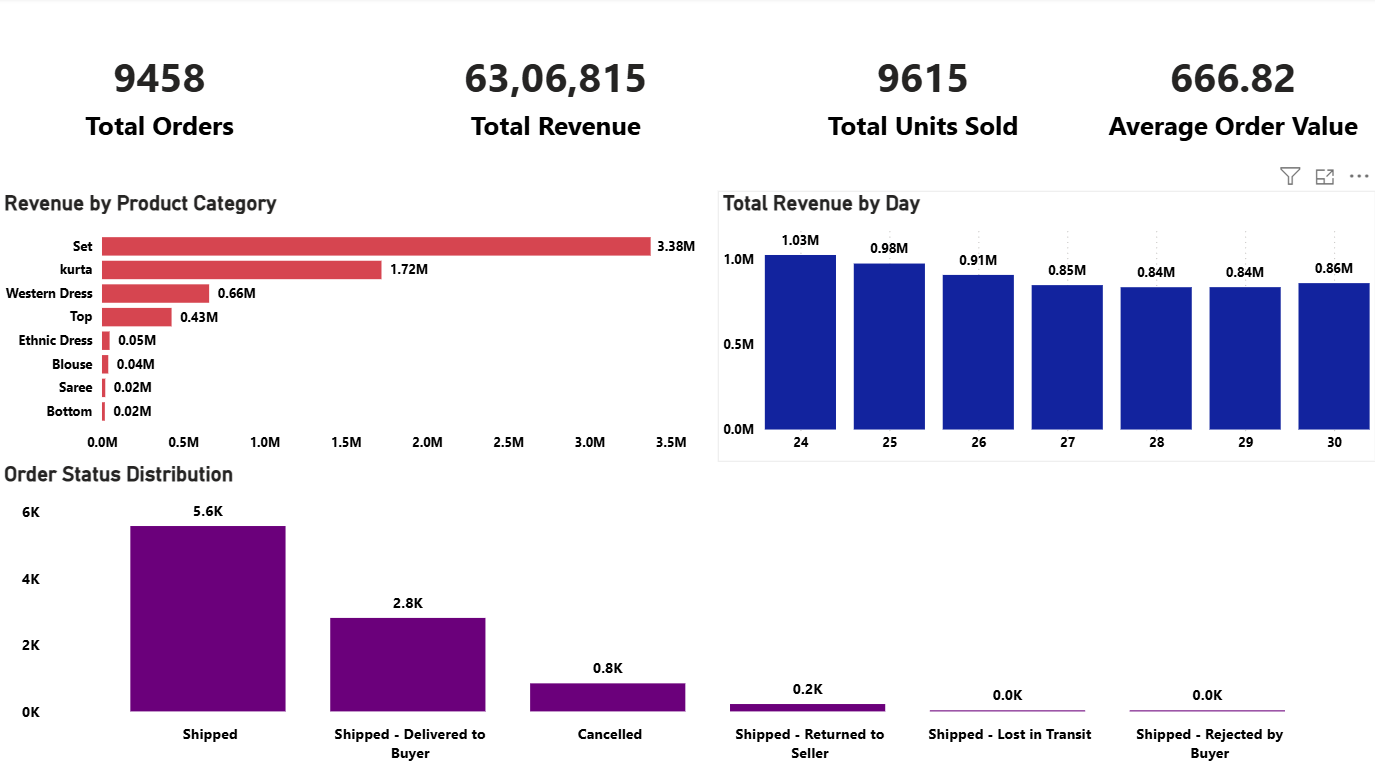

The dashboard page shown, as its layout file describes it:
{"tool":"powerbi","page":{"name":"Page 1","canvas":[1280,720],"ordinal":0},"visuals":[{"type":"card","fields":{"Values":["Amazon_Sales_Cleaned.Total Orders"]},"box":[0,0,299,179.9],"z":0},{"type":"card","fields":{"Values":["Amazon_Sales_Cleaned.Total Revenue"]},"box":[369.1,0,299,179.9],"z":1000},{"type":"card","fields":{"Values":["Amazon_Sales_Cleaned.Total Units Sold"]},"box":[747.4,0,224.2,179.9],"z":2000},{"type":"card","fields":{"Values":["Amazon_Sales_Cleaned.Average Order Value"]},"box":[1016.3,0,264,180.2],"z":3000},{"type":"clusteredBarChart","title":"Revenue by Product Category","fields":{"Category":["Amazon_Sales_Cleaned.Category"],"Y":["Amazon_Sales_Cleaned.Total Revenue"]},"box":[0,179.9,668,252.3],"z":4000},{"type":"clusteredColumnChart","fields":{"Category":["Amazon_Sales_Cleaned.Date.Variation.Date Hierarchy.Day"],"Y":["Amazon_Sales_Cleaned.Total Revenue"]},"box":[668.6,180.2,611.6,252.3],"z":5000},{"type":"clusteredColumnChart","title":"Order Status Distribution","fields":{"Category":["Amazon_Sales_Cleaned.Status"],"Y":["Amazon_Sales_Cleaned.Total Orders"]},"box":[0,432.6,1280.2,287.2],"z":6000}]}

Visuals, with their boxes in screenshot pixels (x1, y1, x2, y2), scaled from the page's 1280x720 canvas onto the 1375x768 screenshot:
card - Amazon_Sales_Cleaned.Total Orders: (0, 0, 321, 192)
card - Amazon_Sales_Cleaned.Total Revenue: (396, 0, 718, 192)
card - Amazon_Sales_Cleaned.Total Units Sold: (803, 0, 1044, 192)
card - Amazon_Sales_Cleaned.Average Order Value: (1092, 0, 1374, 192)
"Revenue by Product Category" clusteredBarChart: (0, 192, 718, 461)
clusteredColumnChart - Amazon_Sales_Cleaned.Date.Variation.Date Hierarchy.Day x Amazon_Sales_Cleaned.Total Revenue: (718, 192, 1374, 461)
"Order Status Distribution" clusteredColumnChart: (0, 461, 1374, 767)
